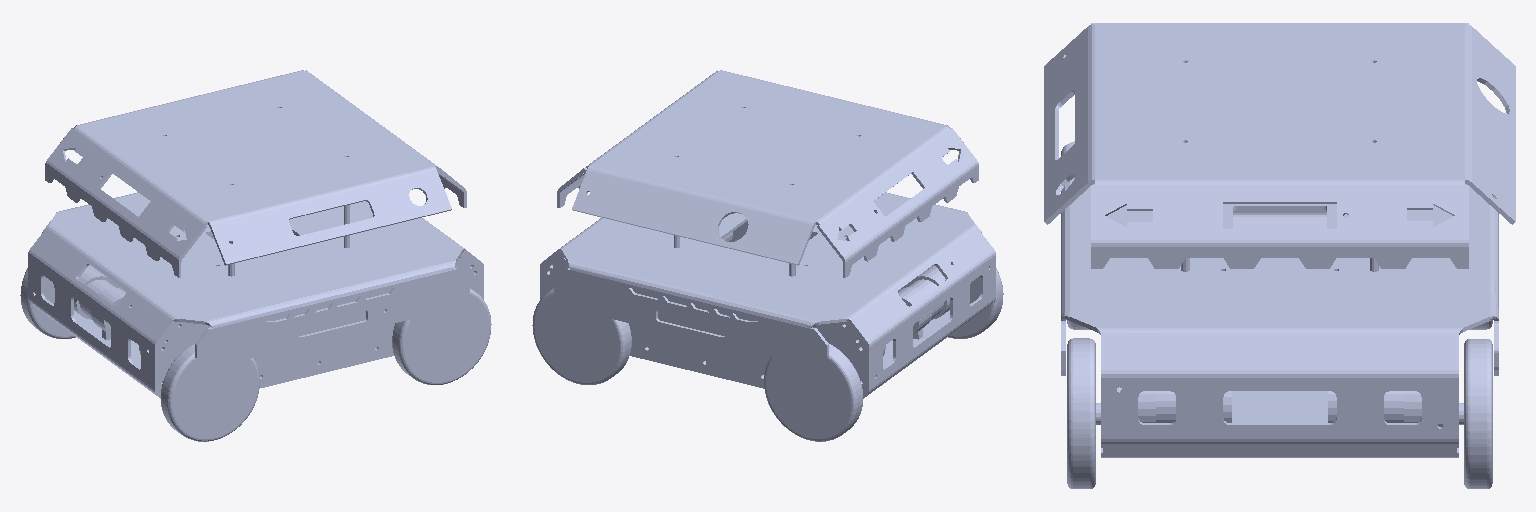
The robot description file, URDF, robot "hai_robot":
<?xml version="1.0" ?>
<!-- =================================================================================== -->
<!-- |    This document was autogenerated by xacro from /home/shan/dev_ws/src/mohd_shan/description/robot_core.xacro | -->
<!-- |    EDITING THIS FILE BY HAND IS NOT RECOMMENDED                                 | -->
<!-- =================================================================================== -->
<robot name="hai_robot">
  <link name="base_link">
    <inertial>
      <origin rpy="0 0 0" xyz="0.000368761558726893 0.000222079211190218 -0.0186832943864639"/>
      <mass value="0.921963005425886"/>
      <inertia ixx="0.00268947436013833" ixy="-8.01568946641351E-06" ixz="8.59504316907562E-07" iyy="0.00489558963627434" iyz="1.75461888359984E-06" izz="0.00732819171596806"/>
    </inertial>
    <visual>
      <origin rpy="0 0 0" xyz="0 0 0"/>
      <geometry>
        <mesh filename="package://mohd_shan/meshes/base_link.STL"/>
      </geometry>
      <material name="">
        <color rgba="0.792156862745098 0.819607843137255 0.933333333333333 1"/>
      </material>
    </visual>
    <collision>
      <origin rpy="0 0 0" xyz="0 0 0"/>
      <geometry>
        <mesh filename="package://mohd_shan/meshes/base_link.STL"/>
      </geometry>
    </collision>
  </link>
  <link name="Link_BR">
    <inertial>
      <origin rpy="0 0 0" xyz="0 0.0074934 -2.2204E-16"/>
      <mass value="0.074247"/>
      <inertia ixx="3.0786E-05" ixy="1.9378E-19" ixz="3.8312E-21" iyy="5.884E-05" iyz="-2.0715E-19" izz="3.0786E-05"/>
    </inertial>
    <visual>
      <origin rpy="0 0 0" xyz="0 0 0"/>
      <geometry>
        <mesh filename="package://mohd_shan/meshes/Link_BR.STL"/>
      </geometry>
      <material name="">
        <color rgba="0.79216 0.81961 0.93333 1"/>
      </material>
    </visual>
    <collision>
      <origin rpy="0 0 0" xyz="0 0 0"/>
      <geometry>
        <mesh filename="package://mohd_shan/meshes/Link_BR.STL"/>
      </geometry>
    </collision>
  </link>
  <joint name="joint_BR" type="continuous">
    <origin rpy="0 0 0" xyz="-0.10018 -0.1126 -0.058355"/>
    <parent link="base_link"/>
    <child link="Link_BR"/>
    <axis xyz="0 1 0"/>
  </joint>
  <link name="Link_FR">
    <inertial>
      <origin rpy="0 0 0" xyz="1.1102E-16 0.0074934 -2.2204E-16"/>
      <mass value="0.074247"/>
      <inertia ixx="3.0786E-05" ixy="1.959E-19" ixz="-6.8527E-34" iyy="5.884E-05" iyz="-9.7951E-20" izz="3.0786E-05"/>
    </inertial>
    <visual>
      <origin rpy="0 0 0" xyz="0 0 0"/>
      <geometry>
        <mesh filename="package://mohd_shan/meshes/Link_FR.STL"/>
      </geometry>
      <material name="">
        <color rgba="0.79216 0.81961 0.93333 1"/>
      </material>
    </visual>
    <collision>
      <origin rpy="0 0 0" xyz="0 0 0"/>
      <geometry>
        <mesh filename="package://mohd_shan/meshes/Link_FR.STL"/>
      </geometry>
    </collision>
  </link>
  <joint name="joint_FR" type="continuous">
    <origin rpy="0 0 0" xyz="0.10018 -0.1126 -0.058355"/>
    <parent link="base_link"/>
    <child link="Link_FR"/>
    <axis xyz="0 1 0"/>
  </joint>
  <link name="Link_FL">
    <inertial>
      <origin rpy="0 0 0" xyz="1.1102E-16 -0.0074934 0"/>
      <mass value="0.074247"/>
      <inertia ixx="3.0786E-05" ixy="-3.6573E-20" ixz="-1.3332E-21" iyy="5.884E-05" iyz="2.2518E-19" izz="3.0786E-05"/>
    </inertial>
    <visual>
      <origin rpy="0 0 0" xyz="0 0 0"/>
      <geometry>
        <mesh filename="package://mohd_shan/meshes/Link_FL.STL"/>
      </geometry>
      <material name="">
        <color rgba="0.79216 0.81961 0.93333 1"/>
      </material>
    </visual>
    <collision>
      <origin rpy="0 0 0" xyz="0 0 0"/>
      <geometry>
        <mesh filename="package://mohd_shan/meshes/Link_FL.STL"/>
      </geometry>
    </collision>
  </link>
  <joint name="joint_FL" type="continuous">
    <origin rpy="0 0 0" xyz="0.10018 0.1126 -0.058355"/>
    <parent link="base_link"/>
    <child link="Link_FL"/>
    <axis xyz="0 1 0"/>
  </joint>
  <link name="Link_BL">
    <inertial>
      <origin rpy="0 0 0" xyz="-4.4409E-16 -0.0074934 -4.4409E-16"/>
      <mass value="0.074247"/>
      <inertia ixx="3.0786E-05" ixy="1.3418E-24" ixz="4.0908E-37" iyy="5.884E-05" iyz="-3.0264E-19" izz="3.0786E-05"/>
    </inertial>
    <visual>
      <origin rpy="0 0 0" xyz="0 0 0"/>
      <geometry>
        <mesh filename="package://mohd_shan/meshes/Link_BL.STL"/>
      </geometry>
      <material name="">
        <color rgba="0.79216 0.81961 0.93333 1"/>
      </material>
    </visual>
    <collision>
      <origin rpy="0 0 0" xyz="0 0 0"/>
      <geometry>
        <mesh filename="package://mohd_shan/meshes/Link_BL.STL"/>
      </geometry>
    </collision>
  </link>
  <joint name="joint_BL" type="continuous">
    <origin rpy="0 0 0" xyz="-0.10018 0.1126 -0.058355"/>
    <parent link="base_link"/>
    <child link="Link_BL"/>
    <axis xyz="0 1 0"/>
  </joint>
</robot>

--- Render facts (derived) ---
3 views of the same robot in one strip: view 1: azimuth 30°, elevation 25°; view 2: azimuth 150°, elevation 25°; view 3: azimuth 270°, elevation 25° (orthographic).
Robot: hai_robot — 5 links, 4 joints (4 continuous); root link base_link; default pose: all joints at 0.
Visible links, largest first — view 1: base_link, Link_BR, Link_FR, Link_BL; view 2: base_link, Link_BL, Link_FL, Link_BR; view 3: base_link, Link_FR, Link_FL.
Boxes of the visible links, bbox=[...] form: base_link: bbox=[28, 70, 483, 398]; Link_BR: bbox=[161, 344, 259, 441]; Link_FR: bbox=[392, 288, 491, 384]; Link_BL: bbox=[20, 268, 75, 338]; base_link: bbox=[540, 70, 995, 398]; Link_BL: bbox=[764, 343, 862, 441]; Link_FL: bbox=[532, 288, 631, 384]; Link_BR: bbox=[948, 268, 1003, 338]; base_link: bbox=[1044, 23, 1515, 457]; Link_FR: bbox=[1067, 338, 1095, 488]; Link_FL: bbox=[1464, 339, 1492, 488].
Bounding box of the posed robot: 0.2854 × 0.2495 × 0.1758 m (x, y, z).
5 mesh visuals loaded from 5 distinct referenced files (5 binary STL).
